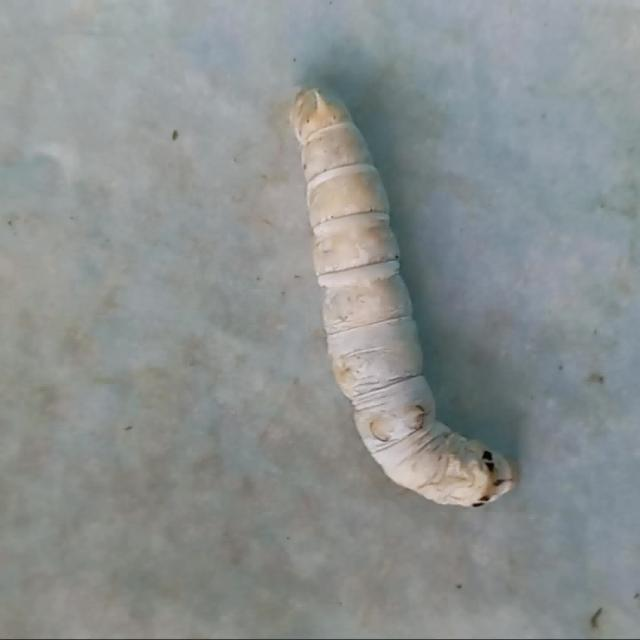Grasserie: (252, 70, 577, 525)
